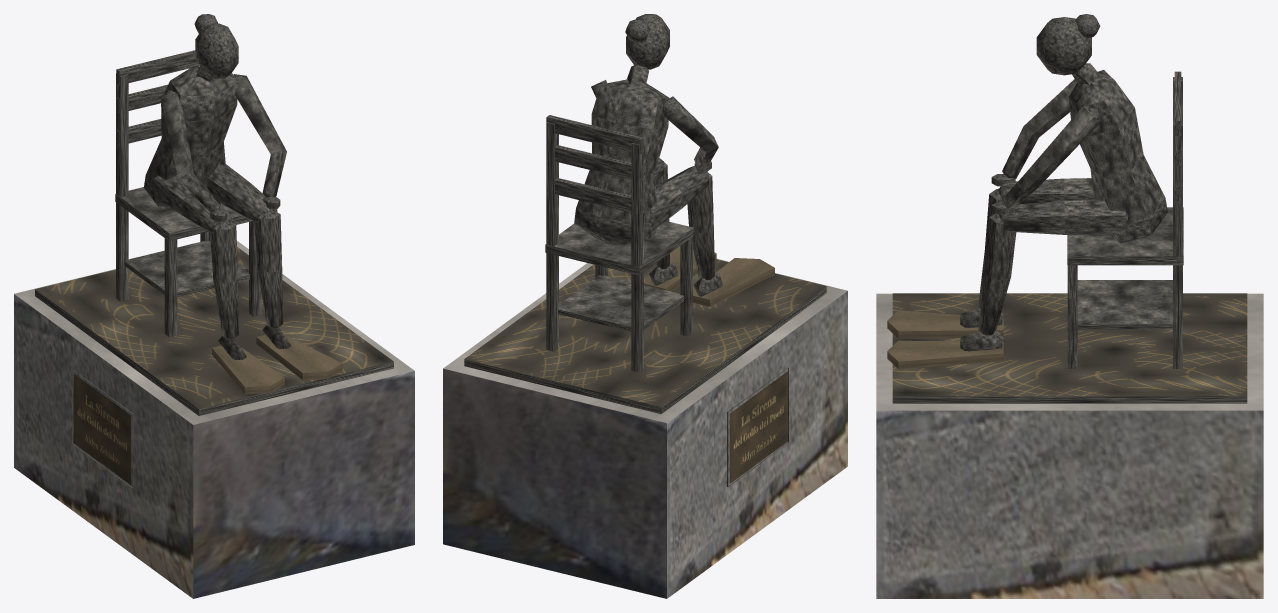
The model's file is SM_Molo_Sirena_LOD1.fbx.
The picture shows the model from 3 angles, left to right: view 1: azimuth 30°, elevation 25°; view 2: azimuth 150°, elevation 25°; view 3: azimuth 270°, elevation 25°; orthographic projection. The views are drawn at different scales.
Parts seen in each view (by area): view 1: SM_Molo_Sirena_LOD1; view 2: SM_Molo_Sirena_LOD1; view 3: SM_Molo_Sirena_LOD1.
Part boxes in pixels (x1,y1,x2,y2): SM_Molo_Sirena_LOD1: [14, 14, 414, 598]; SM_Molo_Sirena_LOD1: [443, 14, 847, 598]; SM_Molo_Sirena_LOD1: [876, 14, 1263, 598].
Size of the model in its own units: 101 by 140 by 210.
Materials: 1 (1 with a texture image).
